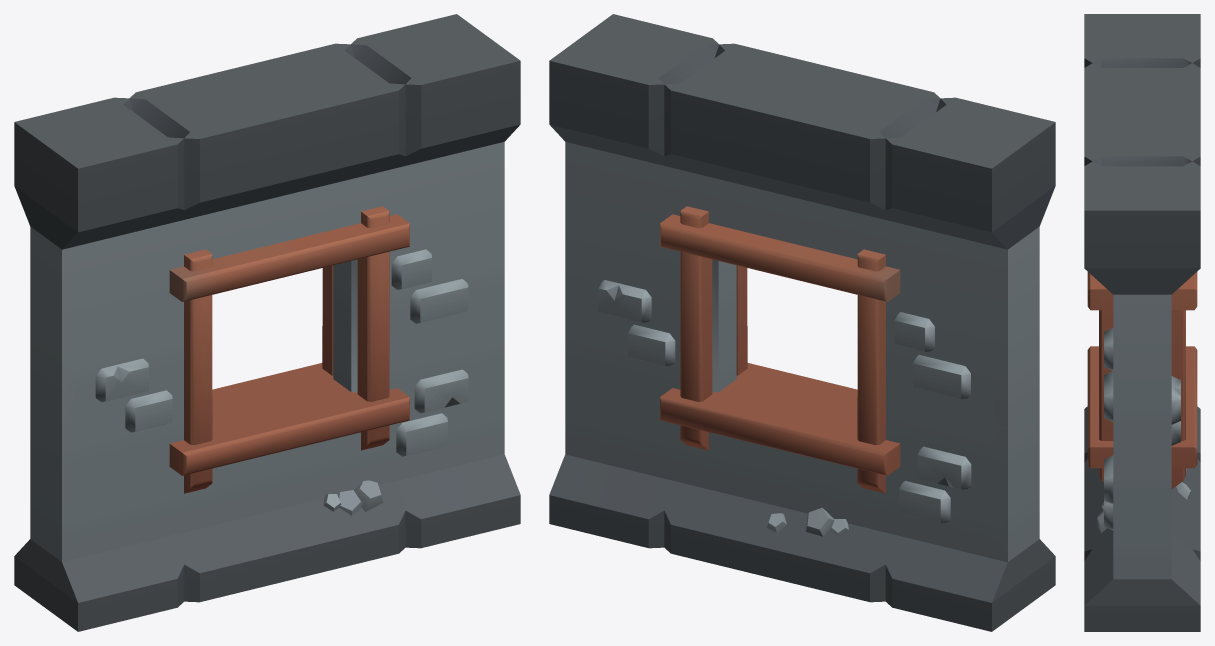
File: wall_window_open.glb
The picture shows the model from 3 angles, left to right: view 1: azimuth 30°, elevation 25°; view 2: azimuth 150°, elevation 25°; view 3: azimuth 270°, elevation 25°; orthographic projection. The views are drawn at different scales.
Parts seen in each view (by area): view 1: wall_window_open; view 2: wall_window_open; view 3: wall_window_open.
Part boxes in pixels (left/top/right/bottom): wall_window_open: left=14, top=14, right=520, bottom=631; wall_window_open: left=549, top=14, right=1055, bottom=631; wall_window_open: left=1084, top=14, right=1200, bottom=631.
Bounding box in the file's own units: 4 × 4 × 1.
1 material, 1 textured.
